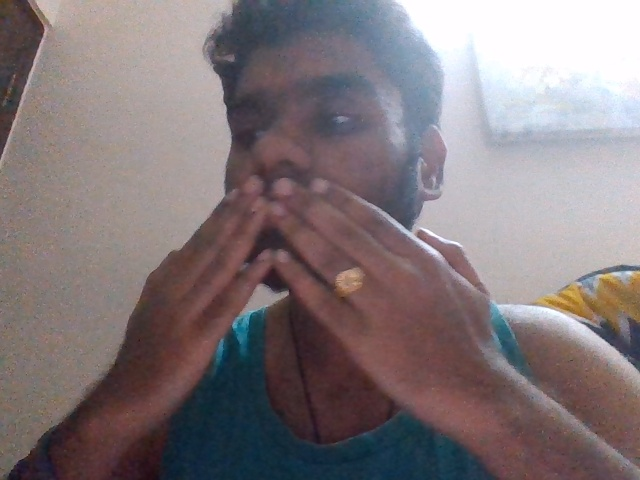thank you: (99, 170, 529, 422)
